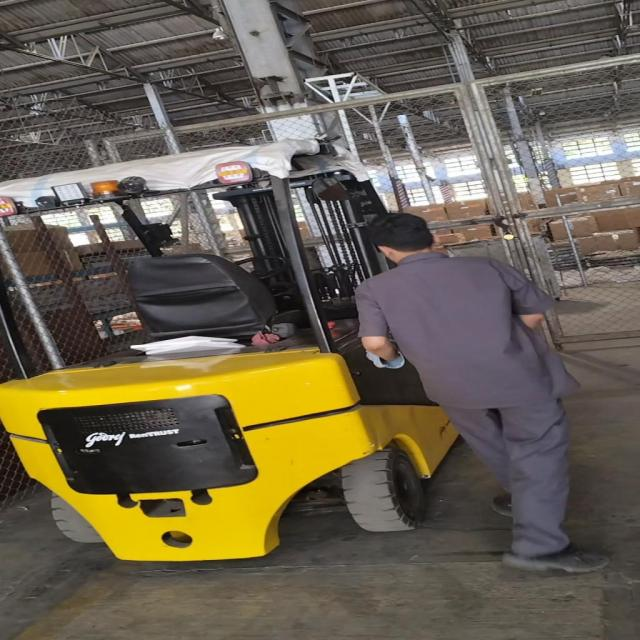Gloves-Detection: (364, 352, 404, 372)
